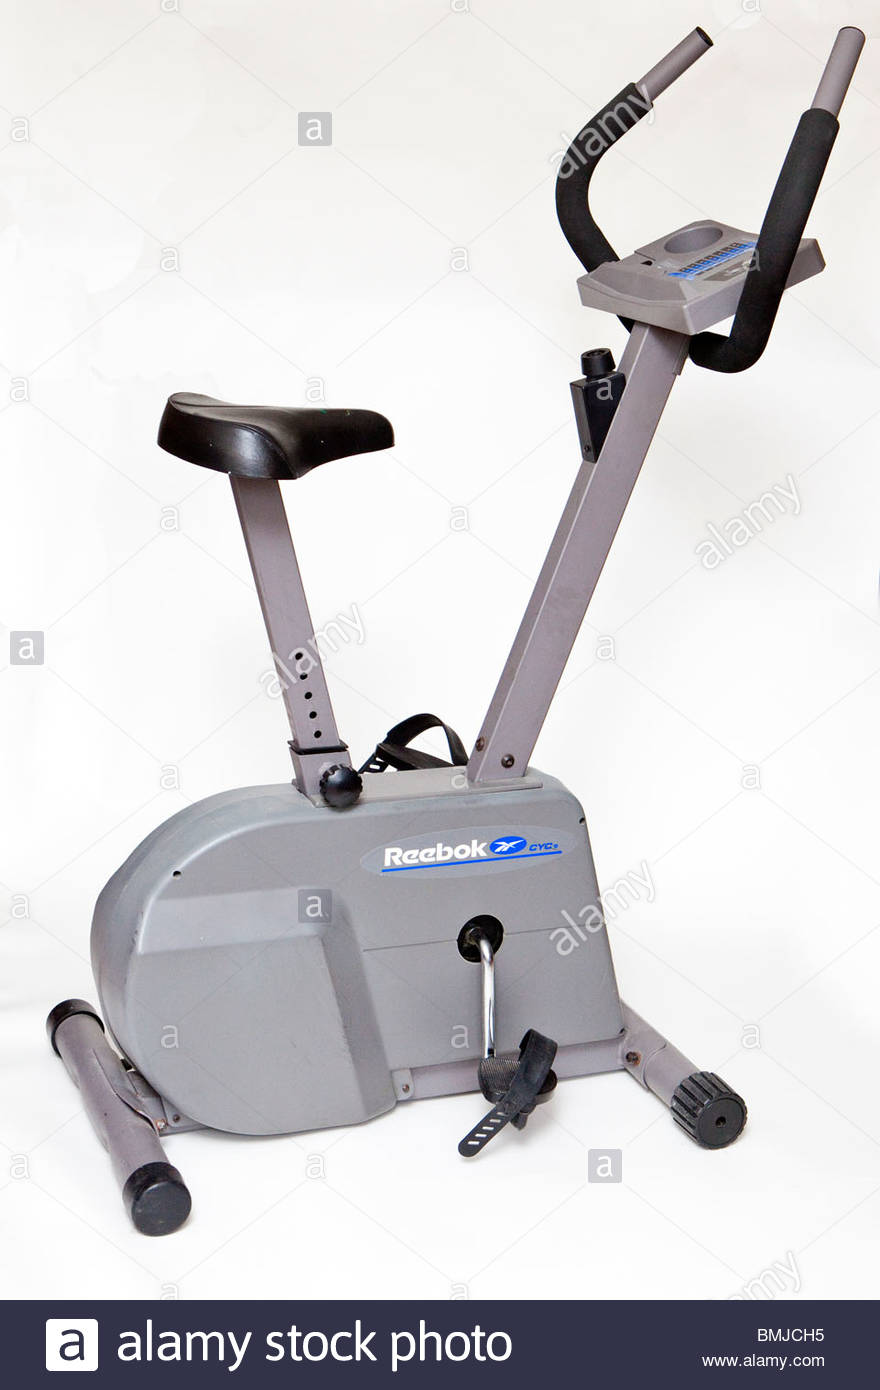gym_bike: (20, 38, 880, 1223)
